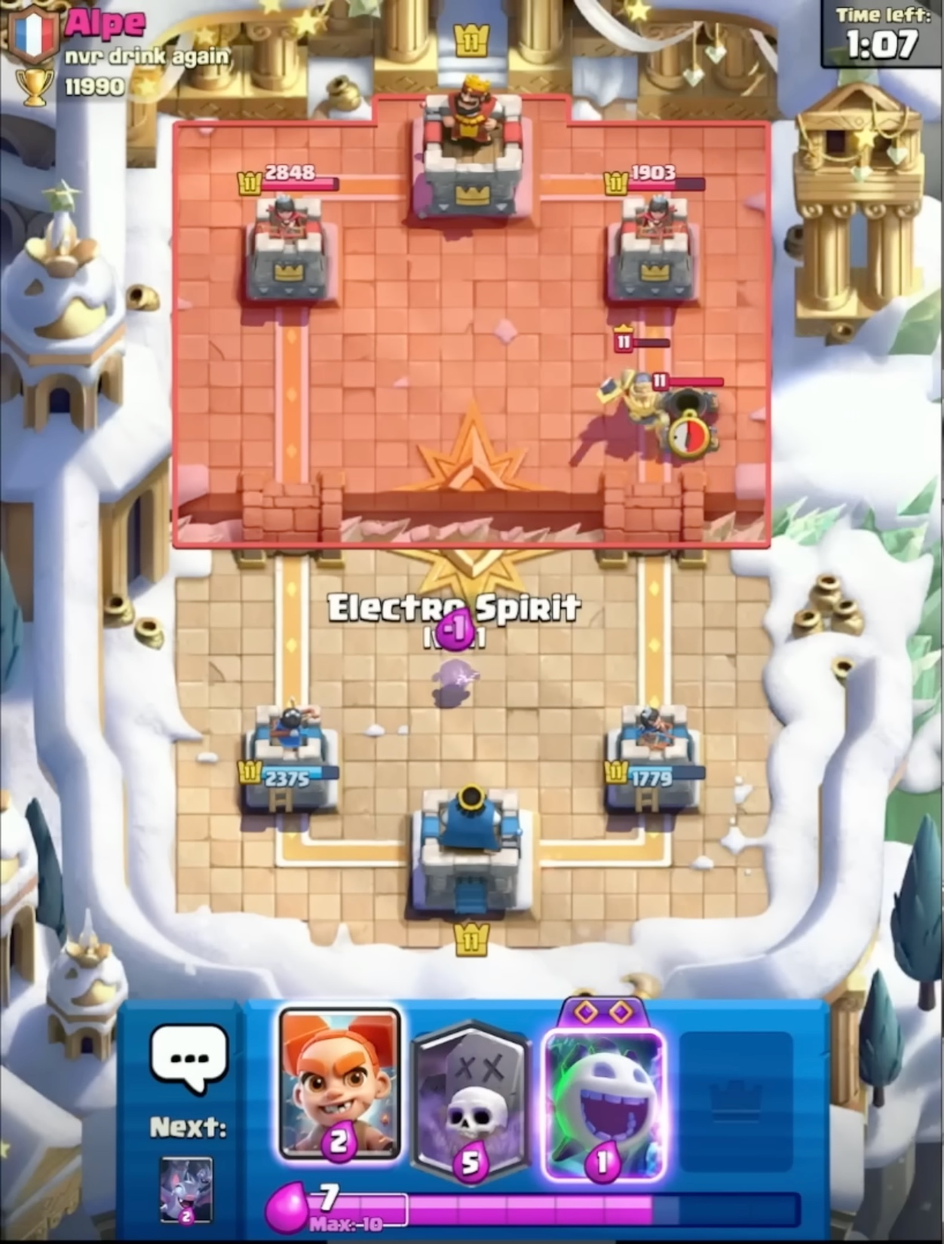hero-knight: (591, 320, 674, 455)
mortar: (648, 368, 727, 468)
